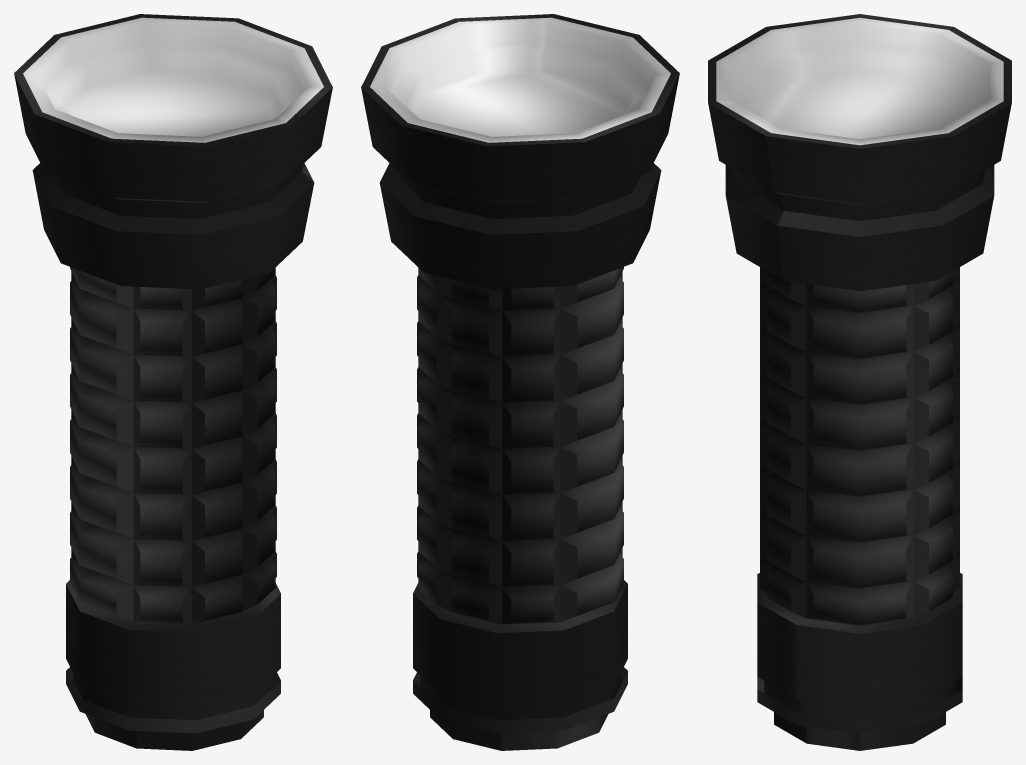
File: 01 flashlight.fbx
3 views of the same model, side by side, from view 1: azimuth 30°, elevation 25°; view 2: azimuth 150°, elevation 25°; view 3: azimuth 270°, elevation 25° (orthographic).
Visible parts, largest first — view 1: Cylinder002, Group001; view 2: Cylinder002, Group001; view 3: Cylinder002, Group001.
Part boxes in pixels (x1,y1,x2,y2): Cylinder002: [66, 267, 280, 750]; Group001: [14, 14, 332, 289]; Cylinder002: [413, 267, 627, 750]; Group001: [361, 14, 679, 289]; Cylinder002: [757, 267, 962, 750]; Group001: [708, 14, 1011, 291].
Size of the model in its own units: 24.4 by 53.16 by 23.21.
Materials: 3 (3 with a texture image).
